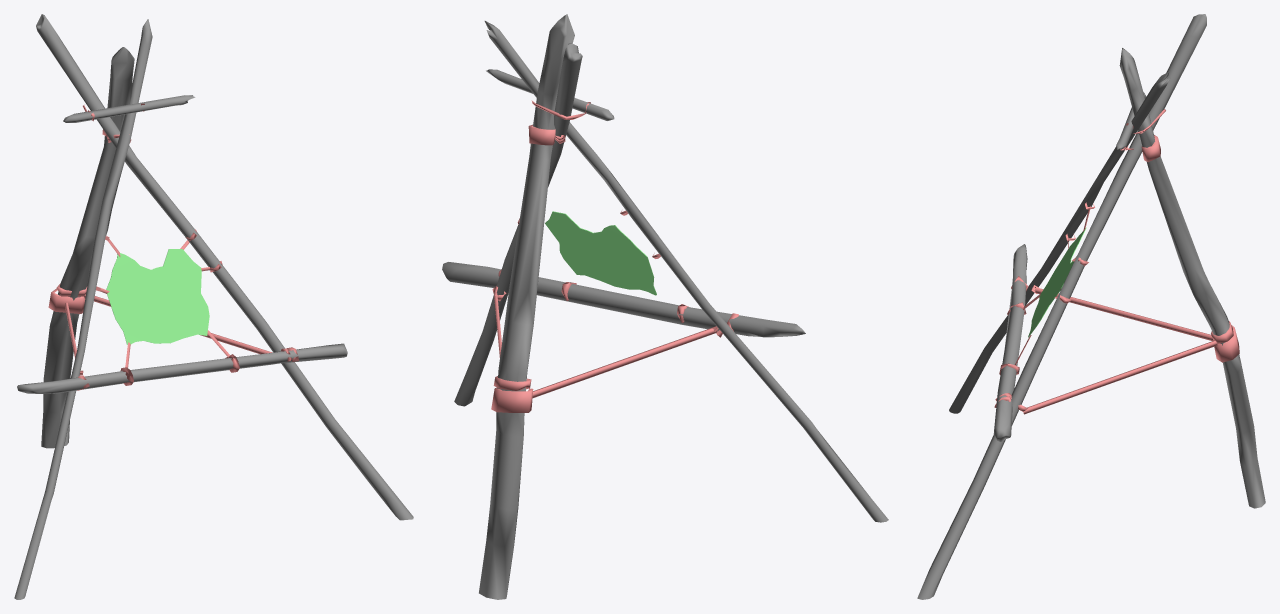
File: tanning_generic_village_A.gltf
3 views of the same model, side by side, from view 1: azimuth 30°, elevation 25°; view 2: azimuth 150°, elevation 25°; view 3: azimuth 270°, elevation 25° (orthographic). The views are drawn at different scales.
Visible parts, largest first — view 1: tanning_generic_village_A; view 2: tanning_generic_village_A; view 3: tanning_generic_village_A.
Boxes of the visible parts, x1,y1,x2,y2 form: tanning_generic_village_A: (14, 14, 413, 599); tanning_generic_village_A: (442, 14, 888, 599); tanning_generic_village_A: (917, 14, 1265, 599).
Size of the model in its own units: 2.22 by 2.54 by 1.71.
